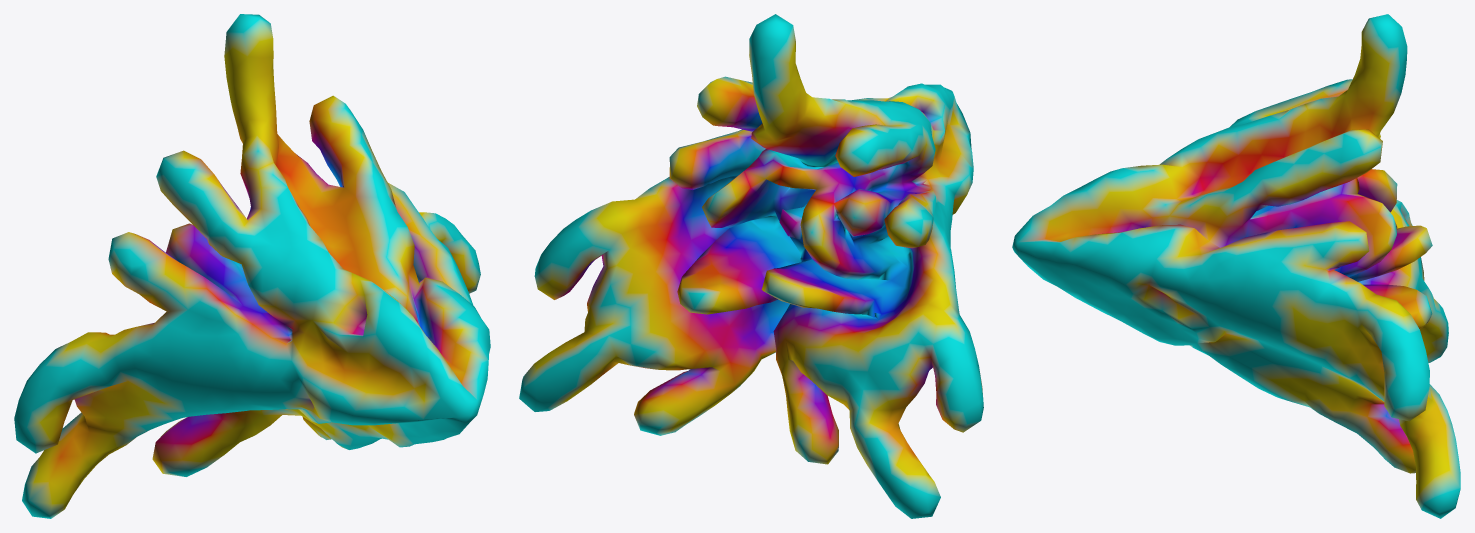
File: jelly_2.gltf
3 renders of one model, left to right at view 1: azimuth 30°, elevation 25°; view 2: azimuth 150°, elevation 25°; view 3: azimuth 270°, elevation 25°, orthographic. The views are drawn at different scales.
Parts seen in each view (by area): view 1: jellysquid3; view 2: jellysquid3; view 3: jellysquid3.
Part boxes in pixels (left/top/right/bottom): jellysquid3: left=14, top=14, right=490, bottom=518; jellysquid3: left=519, top=14, right=983, bottom=518; jellysquid3: left=1012, top=14, right=1460, bottom=518.
Size of the model in its own units: 11.31 by 10.92 by 10.45.
